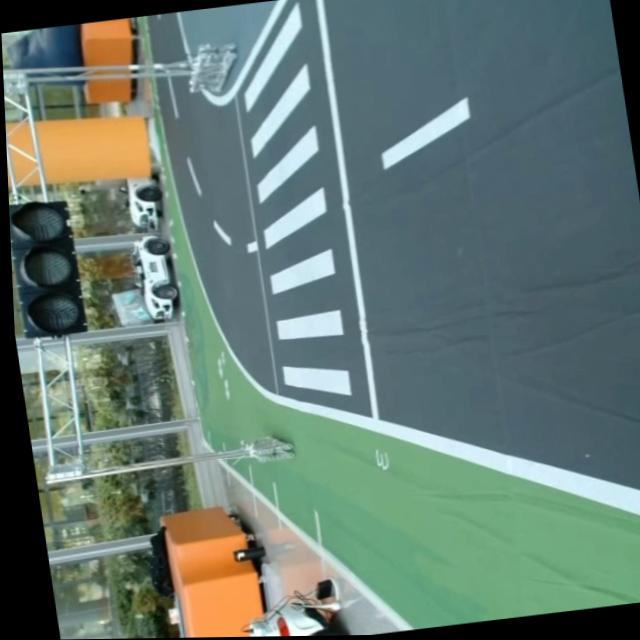traffic-light: (9, 192, 93, 342)
